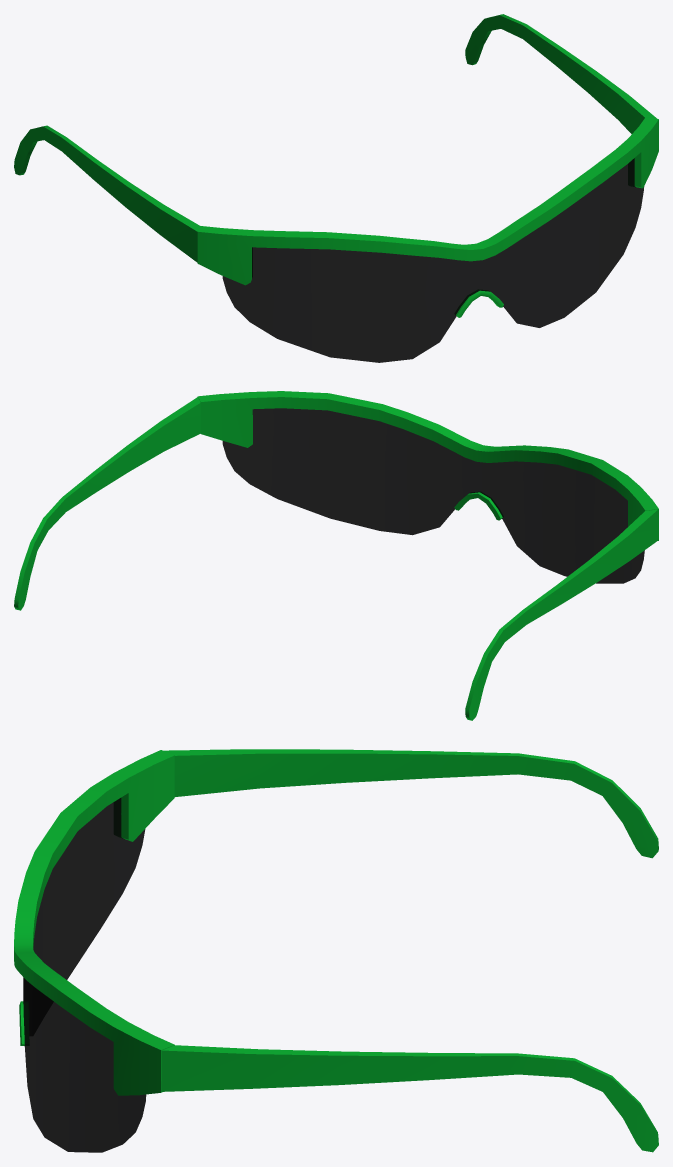
The model's file is CyclistSunglasses.fbx.
The picture shows the model from 3 angles, top to bottom: view 1: azimuth 30°, elevation 25°; view 2: azimuth 150°, elevation 25°; view 3: azimuth 270°, elevation 25°; orthographic projection. The views are drawn at different scales.
Visible parts, largest first — view 1: CyclistSunglasses; view 2: CyclistSunglasses; view 3: CyclistSunglasses.
Part boxes in pixels (box(x1,y1,x2,y2)): CyclistSunglasses: box(14, 14, 658, 362); CyclistSunglasses: box(14, 391, 658, 720); CyclistSunglasses: box(14, 749, 658, 1152).
Size of the model in its own units: 72.92 by 19.73 by 64.92.
